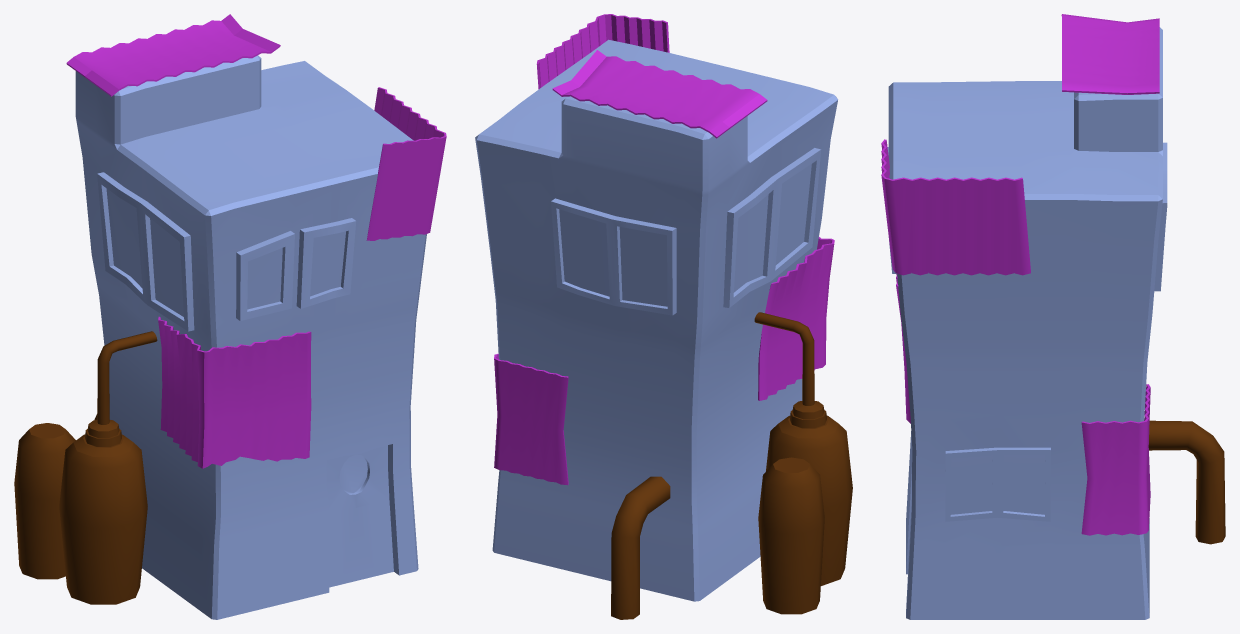
The model's file is Mesh_building01.FBX.
The picture shows the model from 3 angles, left to right: view 1: azimuth 30°, elevation 25°; view 2: azimuth 150°, elevation 25°; view 3: azimuth 270°, elevation 25°; orthographic projection. The views are drawn at different scales.
Visible parts, largest first — view 1: Group001, Cylinder005, Cylinder004; view 2: Group001, Cylinder004, Cylinder005, Cylinder006; view 3: Group001, Cylinder006.
Part boxes in pixels (x1,y1,x2,y2): Group001: [66, 14, 446, 619]; Cylinder005: [59, 331, 157, 604]; Cylinder004: [14, 423, 75, 579]; Group001: [475, 14, 837, 601]; Cylinder004: [758, 457, 824, 614]; Cylinder005: [754, 312, 852, 585]; Cylinder006: [611, 476, 670, 619]; Group001: [881, 14, 1167, 619]; Cylinder006: [1148, 420, 1225, 544].
Bounding box in the file's own units: 580 × 826 × 518.
